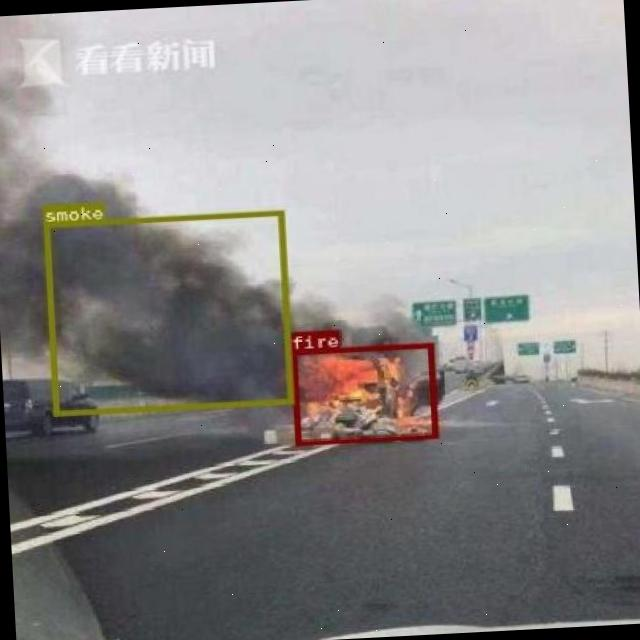fire: (290, 342, 438, 444)
smoke: (44, 210, 294, 416)
